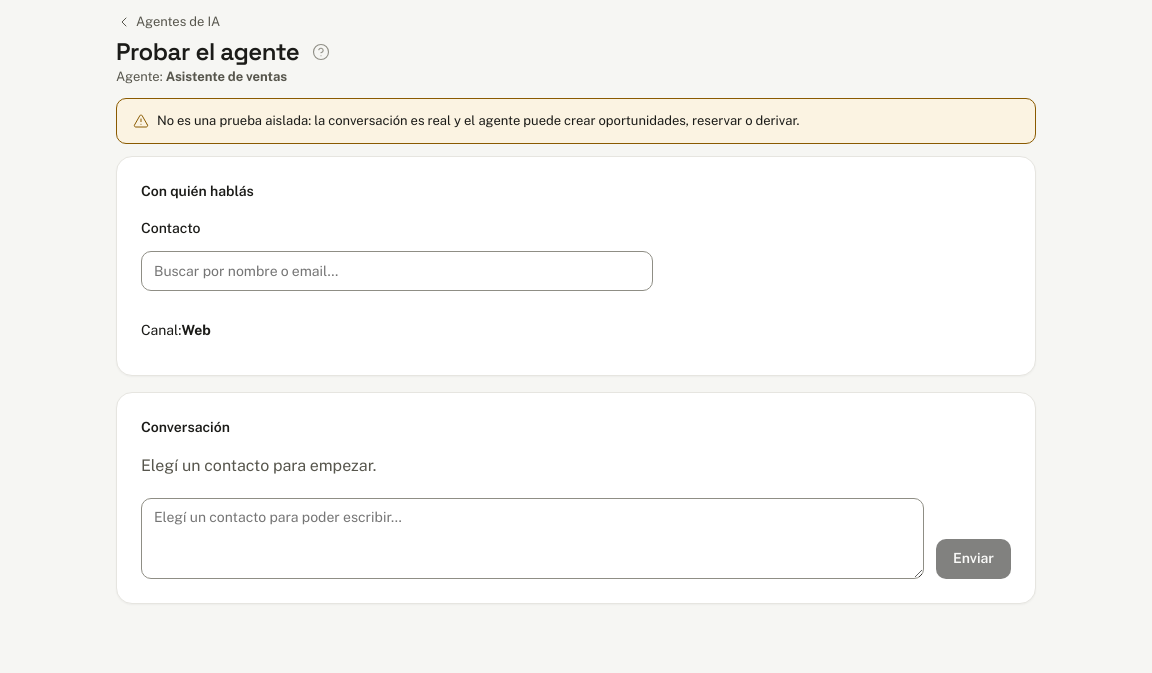
Test: AgentPlaygroundPage — mandar un mensaje › una respuesta null muestra la nota de que no respondió, no una burbuja vacía
The width and height of the screenshot is (1152, 673).
Expected: the text "No es una prueba aislada" is shown, x1=157 y1=113 x2=800 y2=128
Type "Jua" into the field with placeholder "Buscar por nombre o email…" at (397, 271), box x1=141 y1=251 x2=653 y2=291
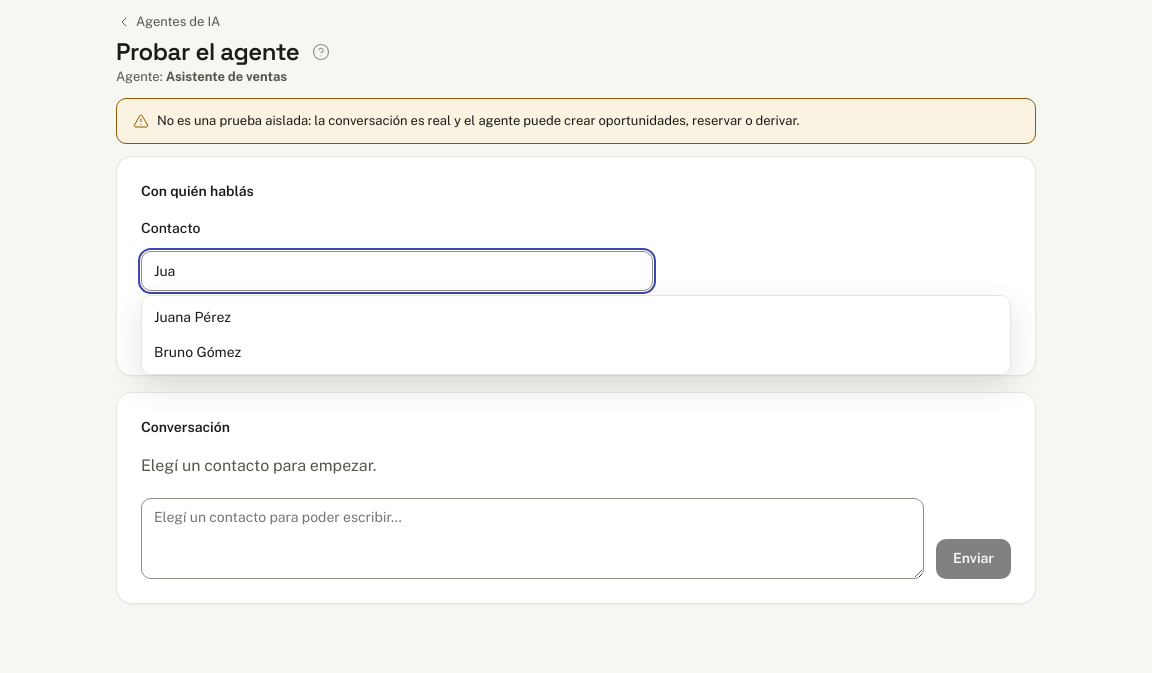
Click the button "Juana Pérez" at (193, 317), box x1=142 y1=300 x2=1010 y2=335
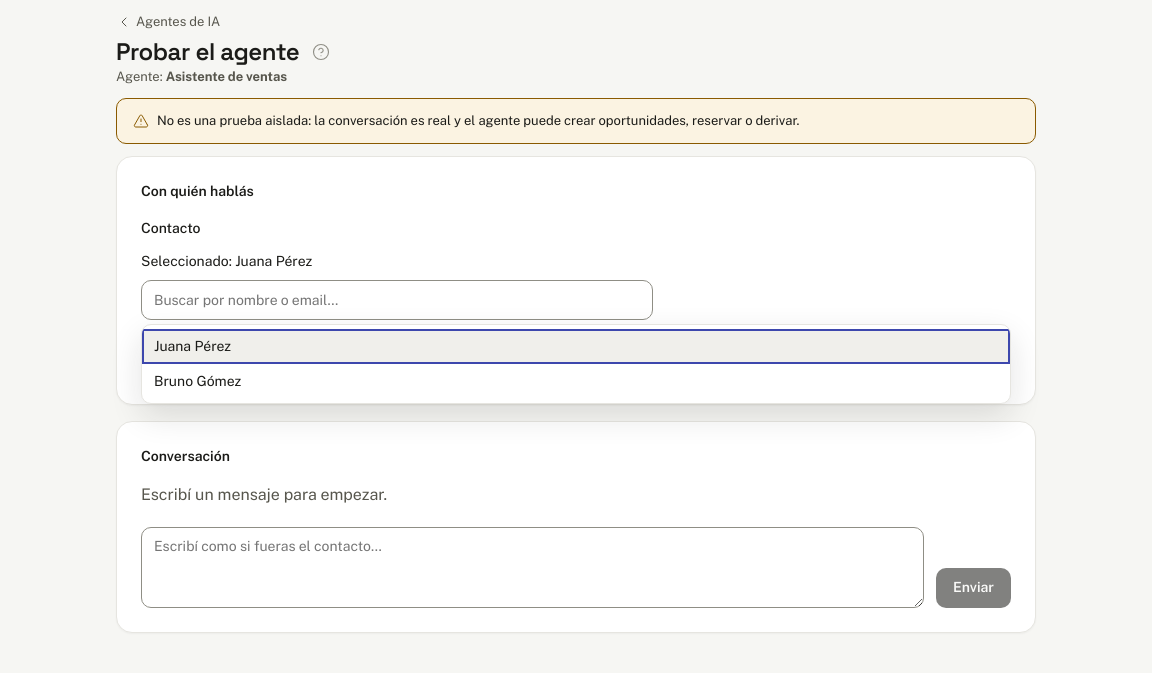
Now the text box named "Mensaje del contacto" is enabled
Type "hola?" into the text box named "Mensaje del contacto" at (533, 567), box x1=141 y1=527 x2=924 y2=608
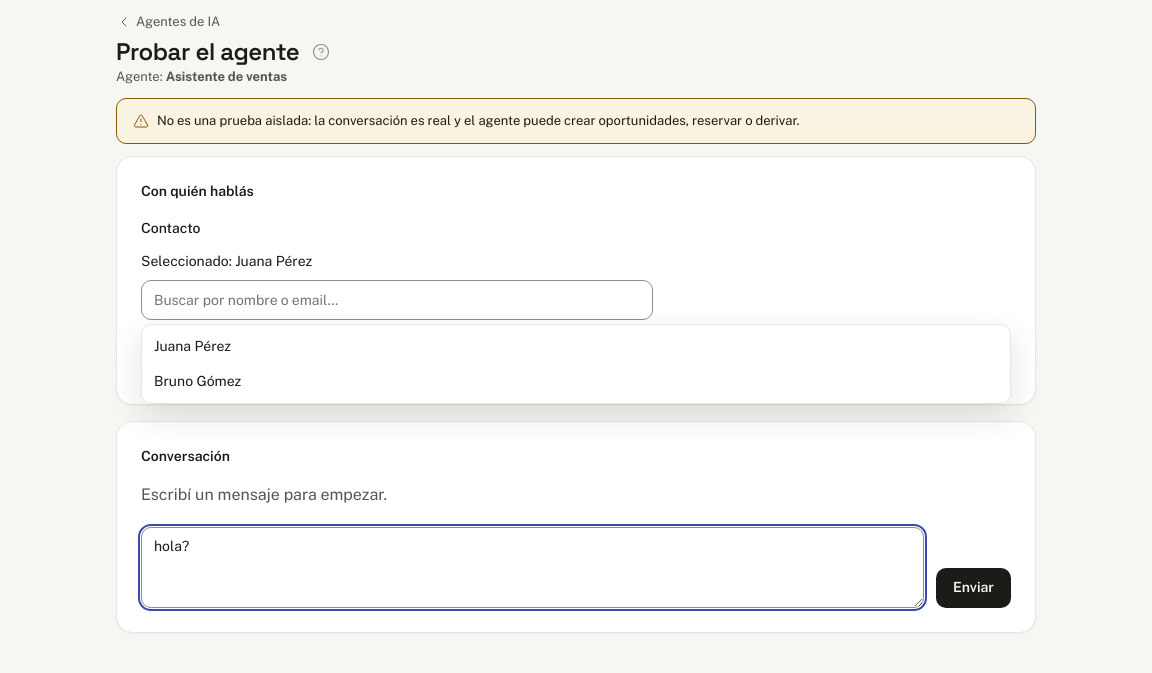
Click the button "Enviar" at (974, 588), box x1=936 y1=568 x2=1011 y2=608
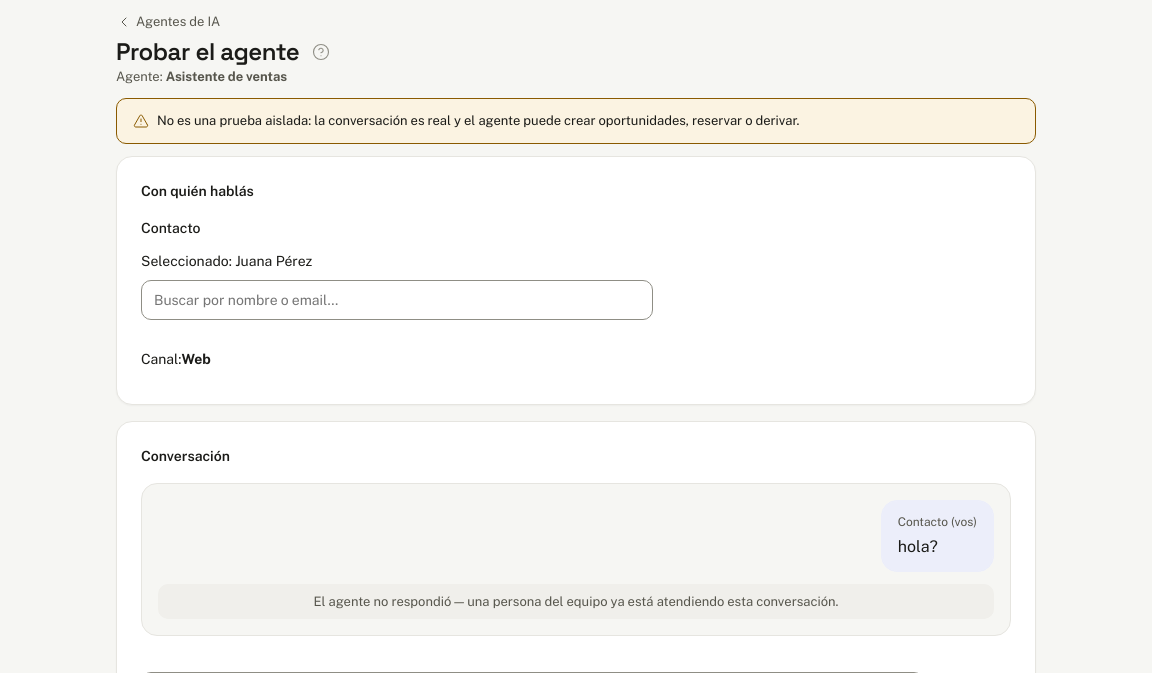
Now the text "El agente no respondió — una persona del equipo ya está atendiendo esta conversación." is shown, box x1=314 y1=594 x2=838 y2=609
